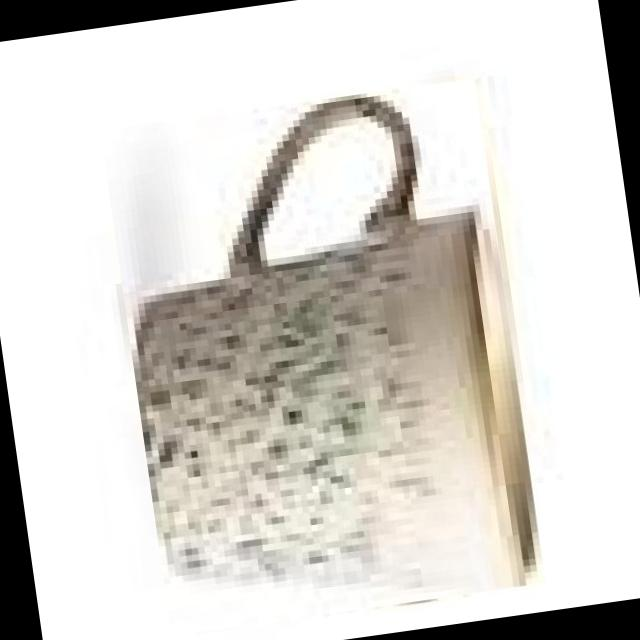Coffee Mug: (99, 84, 546, 634)
